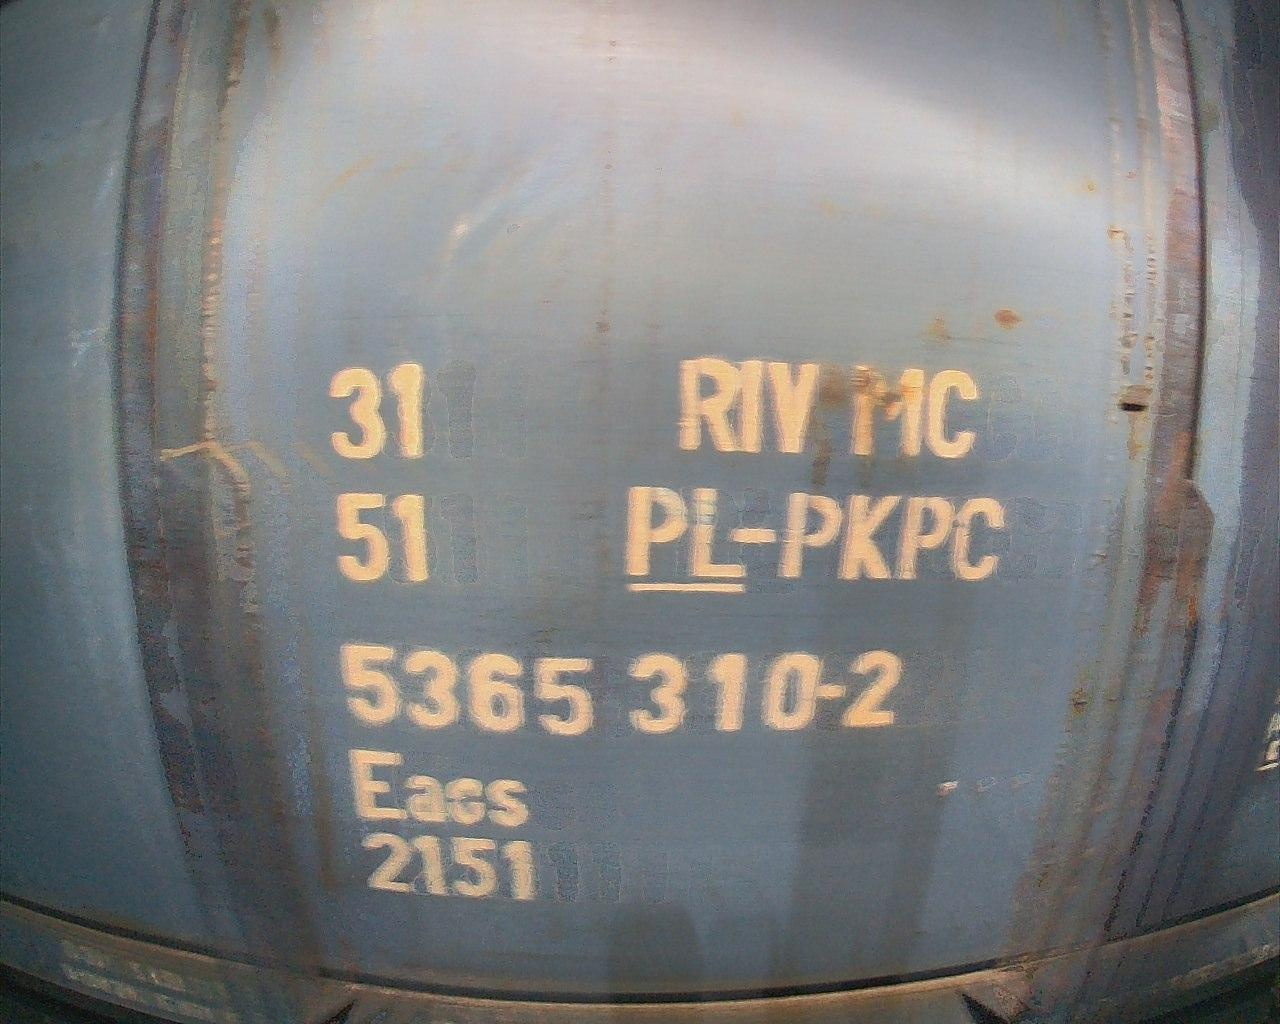UIC: (311, 352, 1011, 907)
